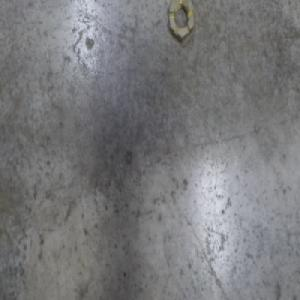Nut: (168, 0, 196, 43)
